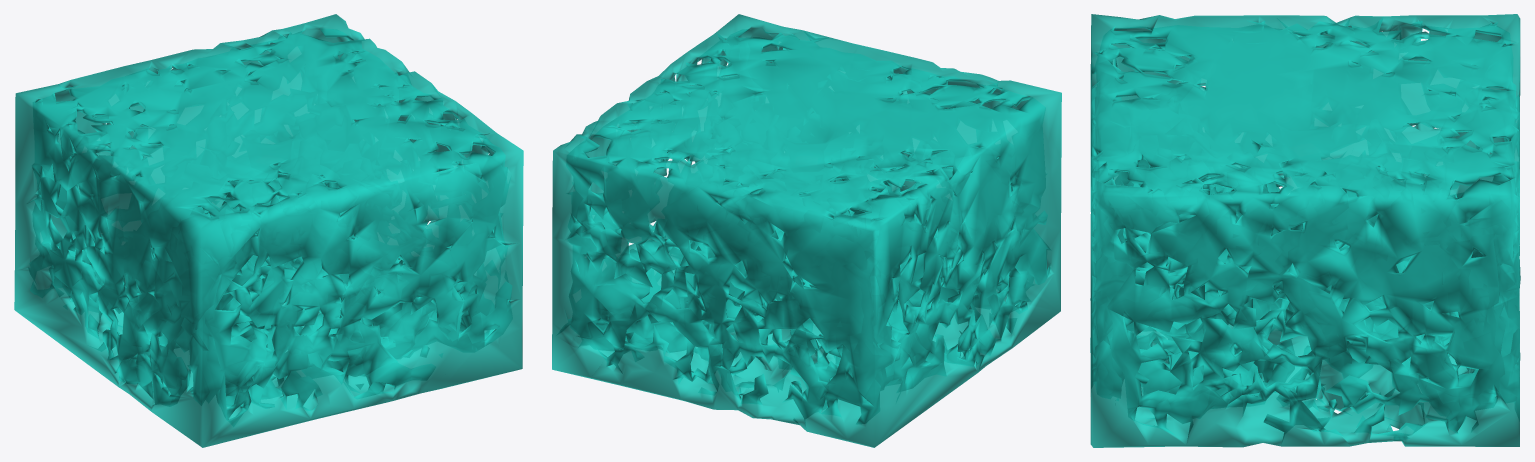
3 renders of one model, left to right at view 1: azimuth 30°, elevation 25°; view 2: azimuth 150°, elevation 25°; view 3: azimuth 270°, elevation 25°, orthographic. The views are drawn at different scales.
Parts seen in each view (by area): view 1: Liquid_Domain; view 2: Liquid_Domain; view 3: Liquid_Domain.
Part boxes in pixels (left/top/right/bottom): Liquid_Domain: left=14, top=14, right=523, bottom=447; Liquid_Domain: left=552, top=14, right=1061, bottom=447; Liquid_Domain: left=1090, top=14, right=1520, bottom=447.
Size of the model in its own units: 391 by 254 by 392.
